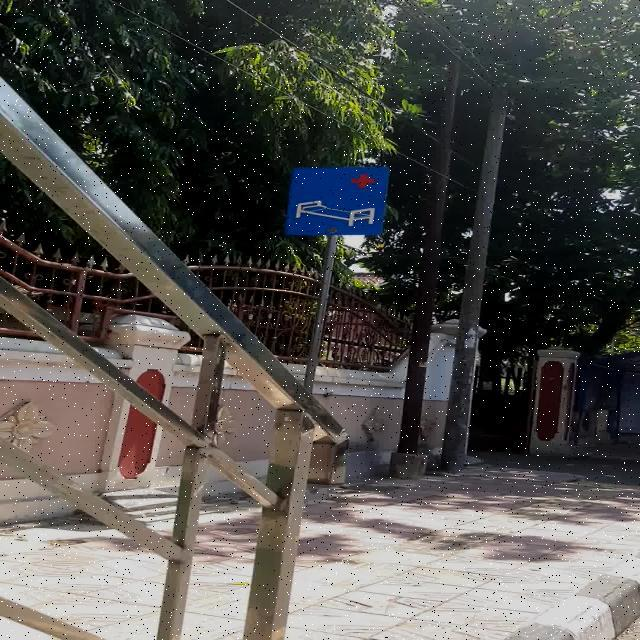Rumah Sakit: (285, 167, 390, 235)
